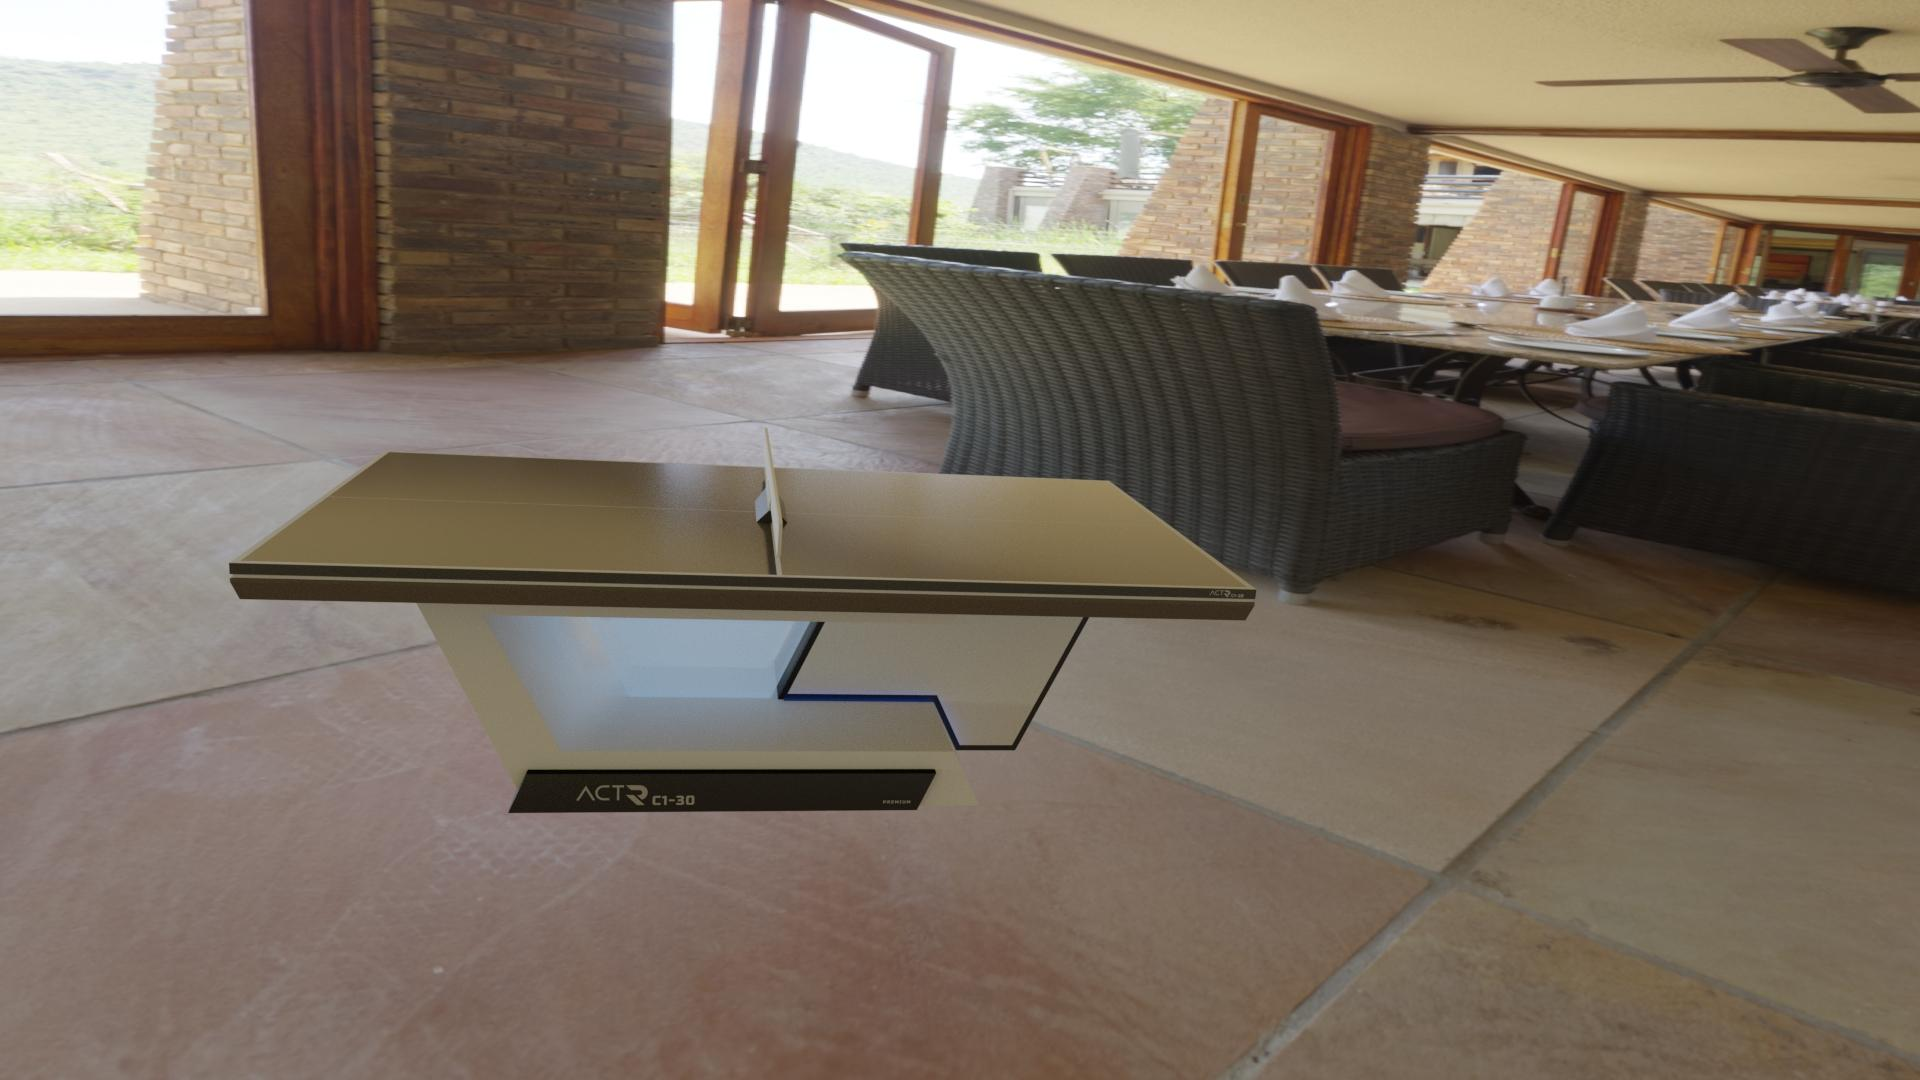table: (240, 452, 1247, 587)
